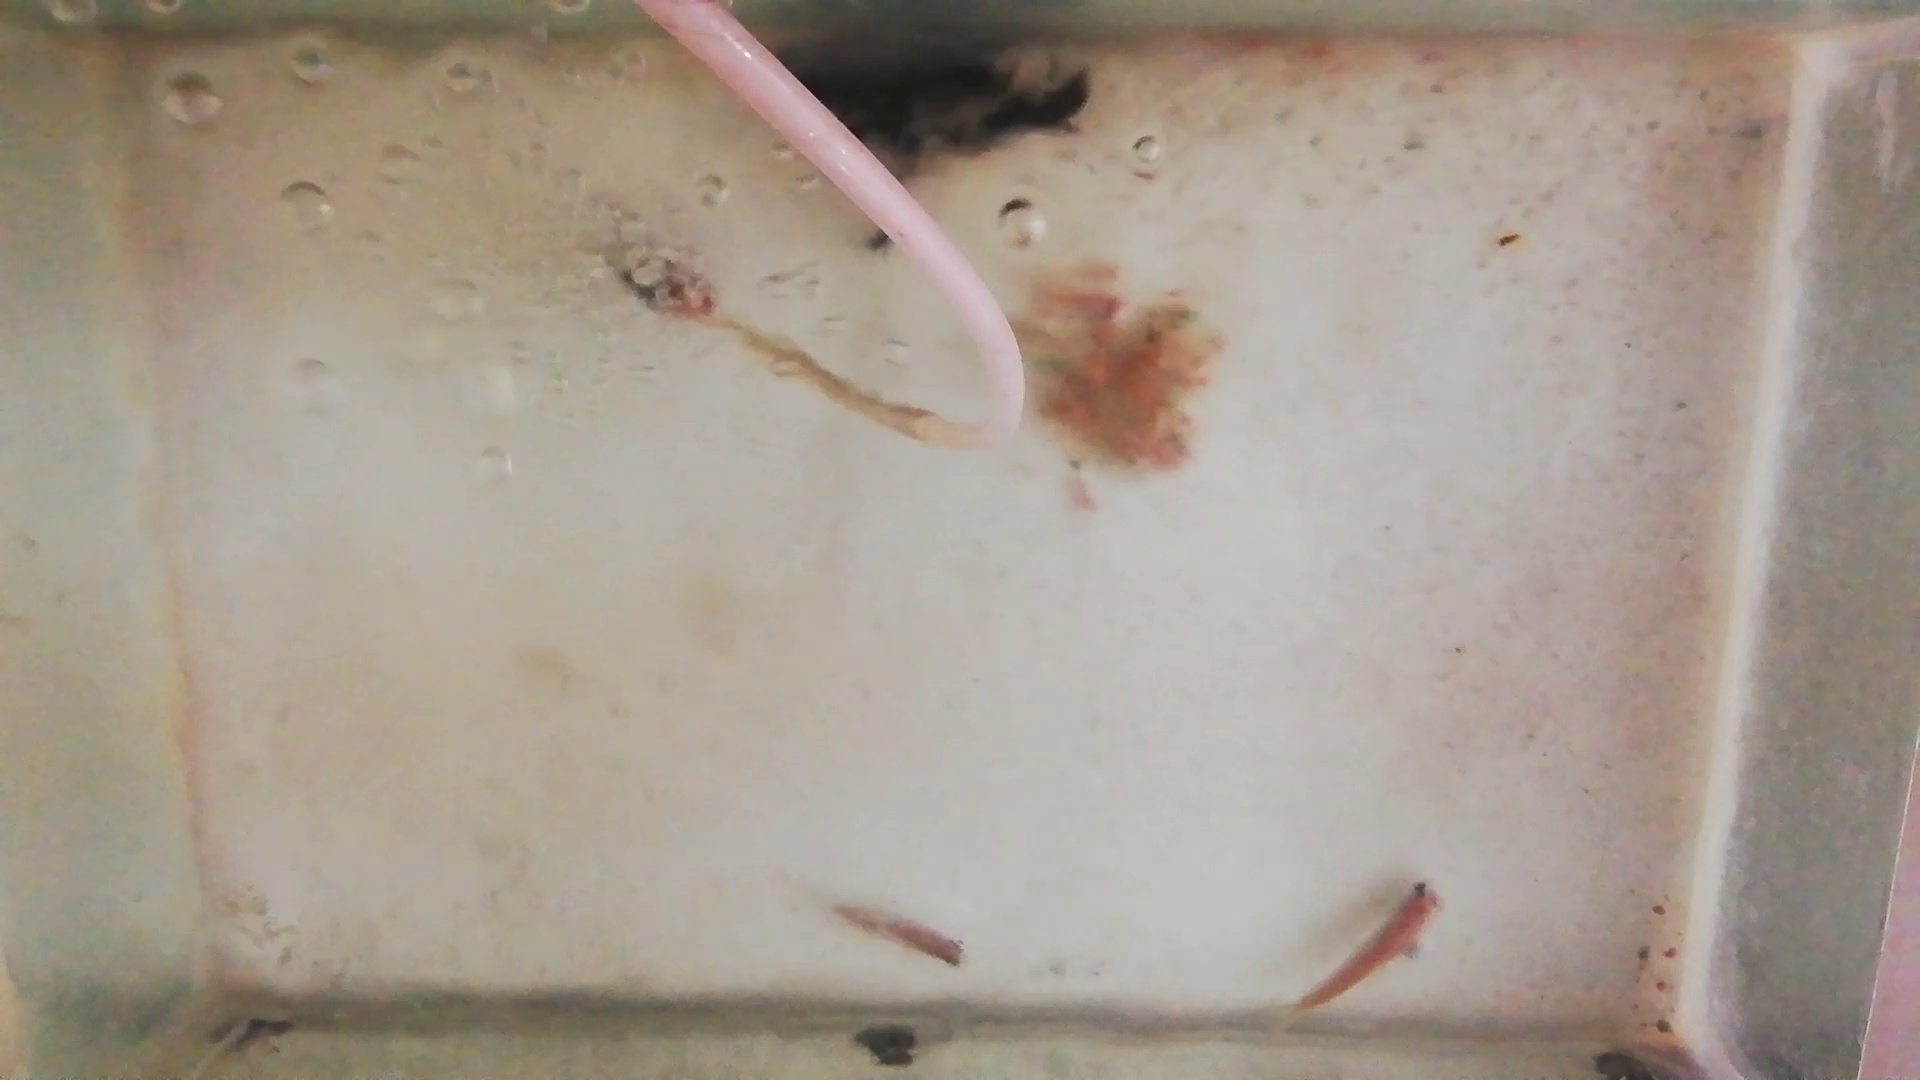fish: (1302, 881, 1445, 1005), (835, 905, 964, 971)
